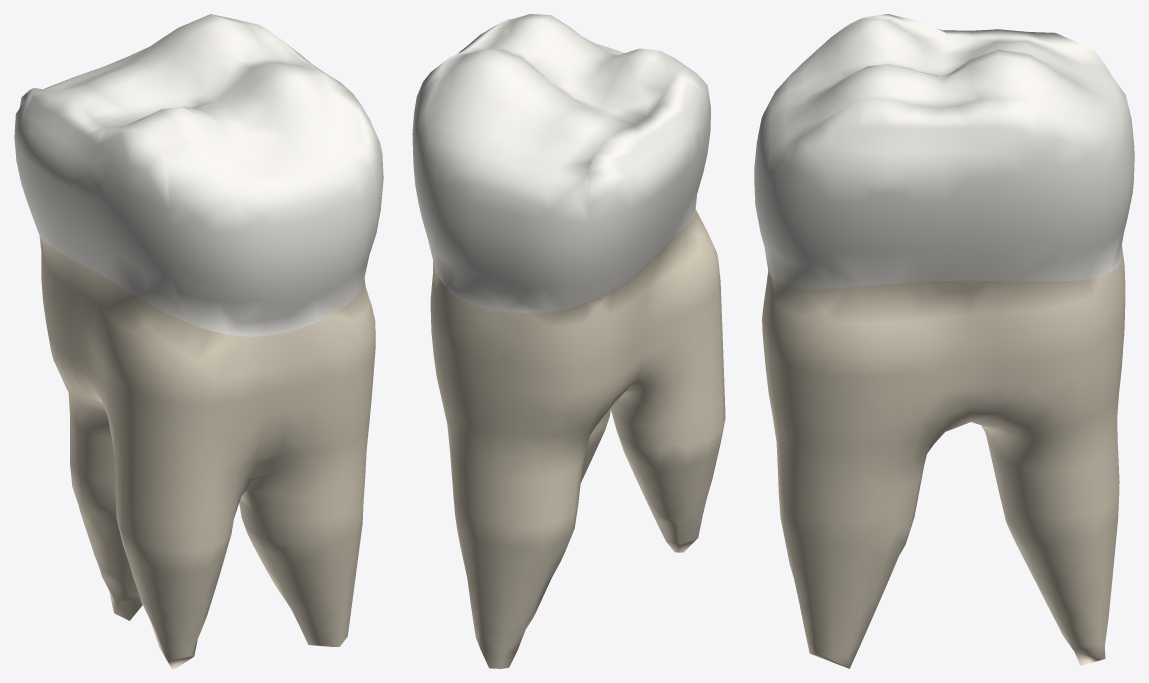
3 renders of one model, left to right at view 1: azimuth 30°, elevation 25°; view 2: azimuth 150°, elevation 25°; view 3: azimuth 270°, elevation 25°, orthographic. The views are drawn at different scales.
Parts seen in each view (by area): view 1: root, V, D, O, M, L; view 2: root, L, O, D, M; view 3: root, M, O, L, V, D.
Boxes of the visible parts, left/top/right/bottom form: root: left=39, top=236, right=375, bottom=668; V: left=161, top=105, right=381, bottom=336; D: left=14, top=88, right=182, bottom=320; O: left=58, top=14, right=327, bottom=151; M: left=269, top=30, right=383, bottom=205; L: left=22, top=29, right=175, bottom=96; root: left=430, top=209, right=725, bottom=668; L: left=413, top=89, right=594, bottom=312; O: left=438, top=14, right=689, bottom=153; D: left=587, top=68, right=710, bottom=302; M: left=412, top=20, right=506, bottom=163; root: left=762, top=252, right=1125, bottom=668; M: left=789, top=98, right=1076, bottom=289; O: left=833, top=15, right=1055, bottom=107; L: left=1045, top=45, right=1134, bottom=281; V: left=754, top=30, right=843, bottom=289; D: left=877, top=14, right=1085, bottom=46.
Size of the model in its own units: 9.17 by 20.32 by 10.99.
